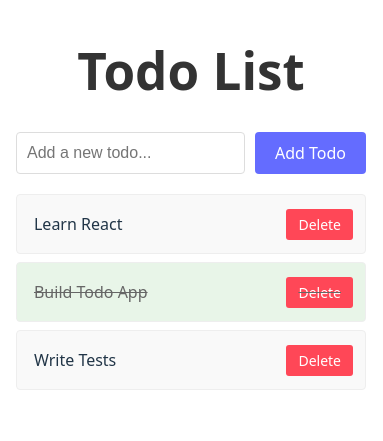
Test: TodoList Component › adds a new todo when form is submitted
Type "New Test Todo" into the field with placeholder "Add a new todo..." at (130, 154), box [16,132,245,174]
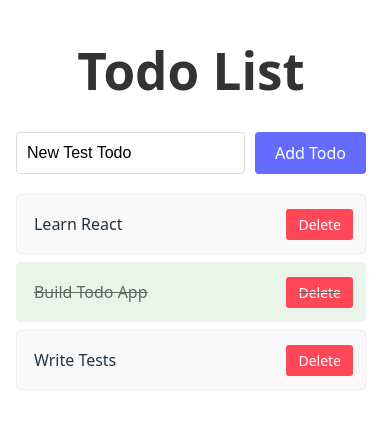
Note: Submit the form
Click the button "Add Todo" at (310, 154), box [255,132,366,174]
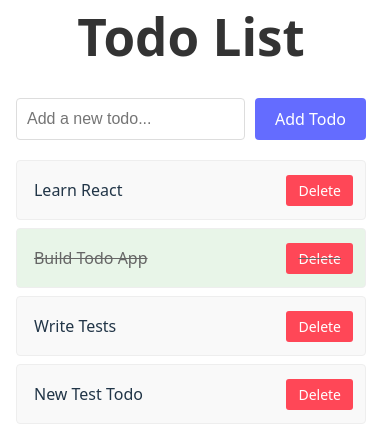
Result: the text "New Test Todo" is shown at [34,384,143,406]
Result: the field with placeholder "Add a new todo..." is empty at [16,98,245,140]
